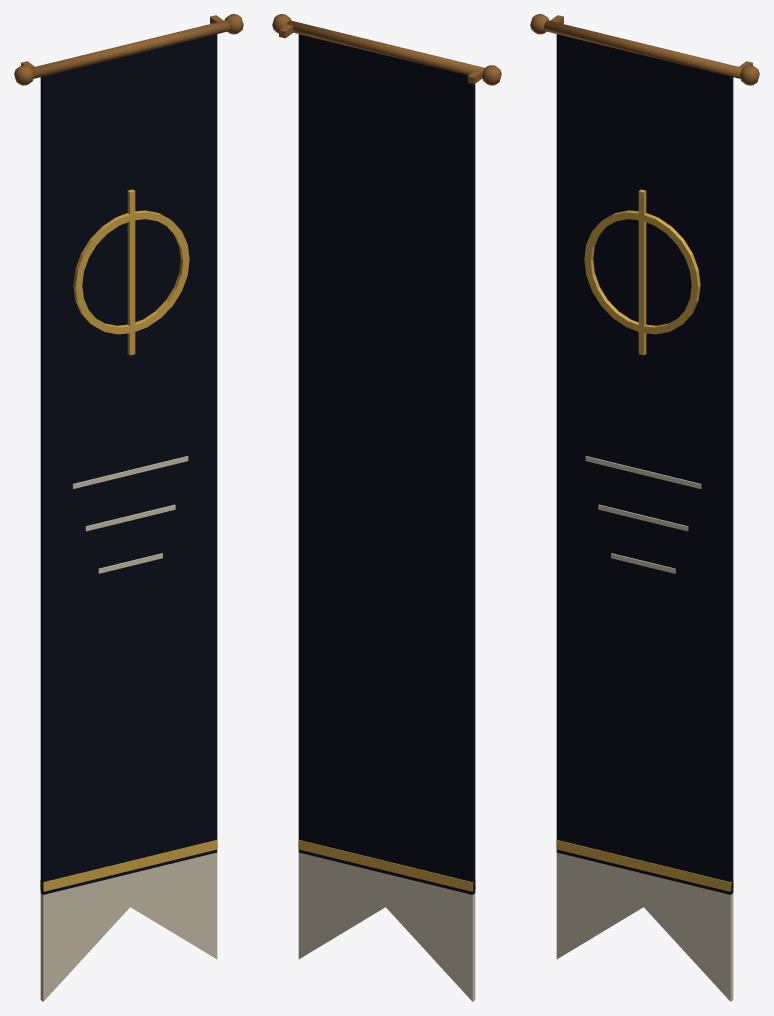
Rendered from banner.glb.
The picture shows the model from 3 angles, left to right: view 1: azimuth 30°, elevation 25°; view 2: azimuth 150°, elevation 25°; view 3: azimuth 330°, elevation 25°; orthographic projection.
Parts seen in each view (by area): view 1: Banner; view 2: Banner; view 3: Banner.
Boxes of the visible parts, <box> form: Banner: <box>14,14,243,1001</box>; Banner: <box>272,14,501,1001</box>; Banner: <box>530,14,759,1001</box>.
Bounding box in the file's own units: 1.78 × 7.01 × 0.21.
